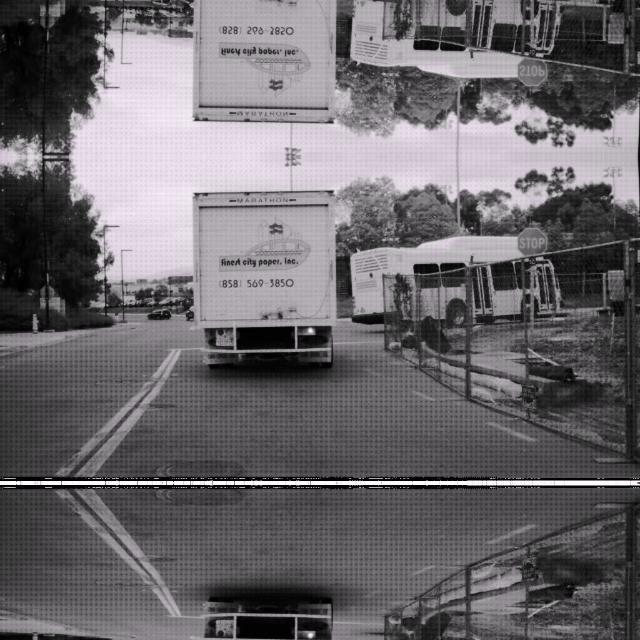stop: (517, 226, 547, 256), (517, 56, 547, 86)
